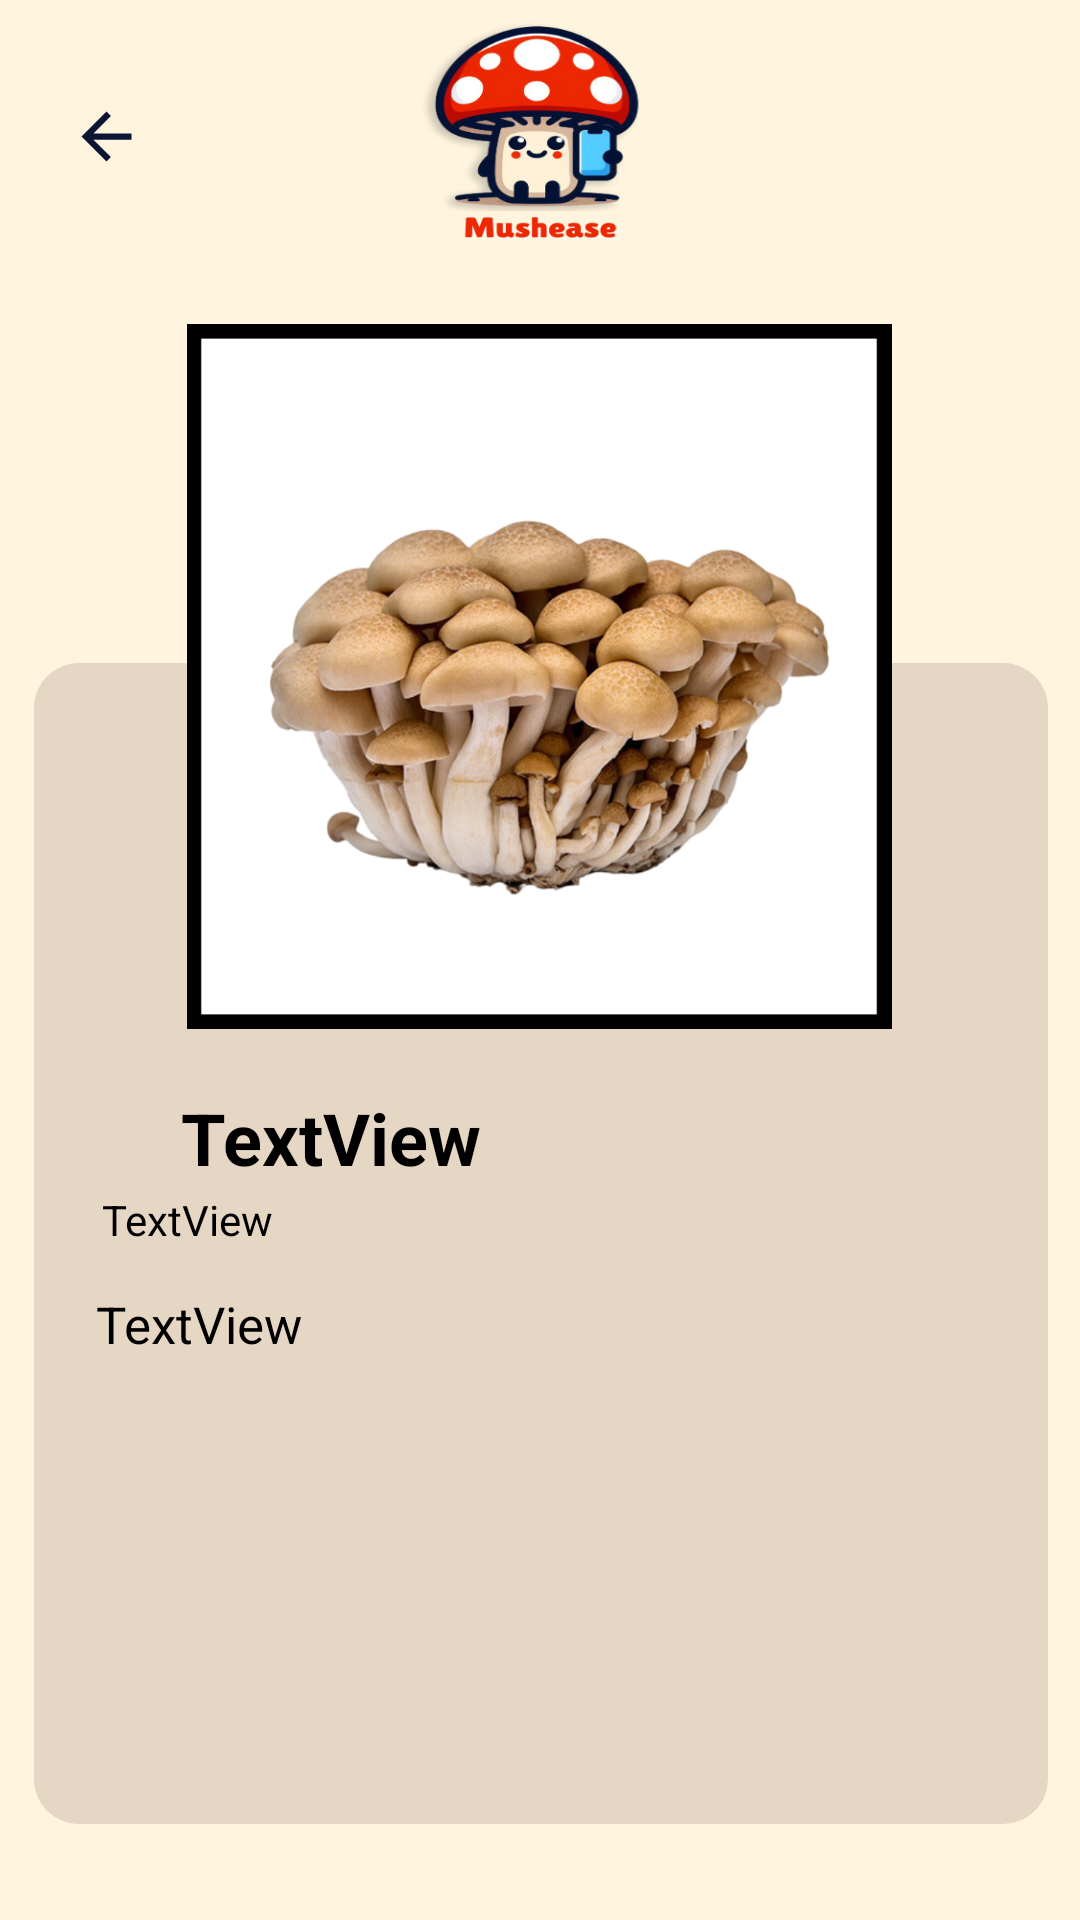

Named icons in this screenshot (1080 × 1920) and their centers, (x,y):
backarr: (106,136)
